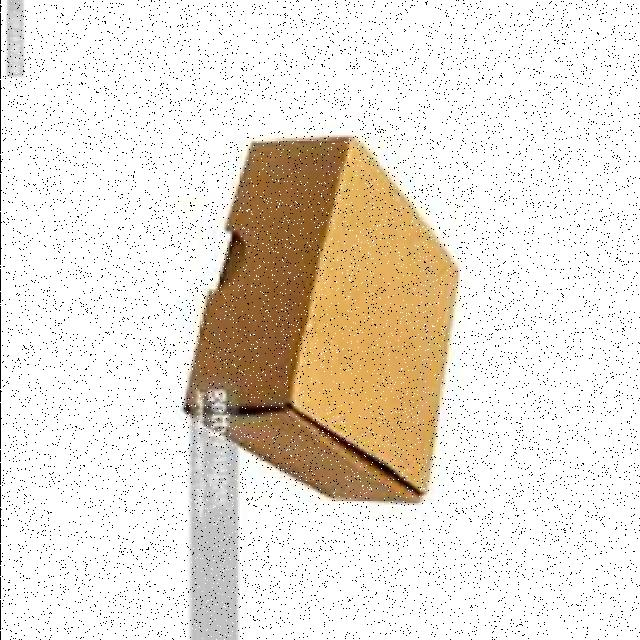normal: (176, 130, 464, 502)
